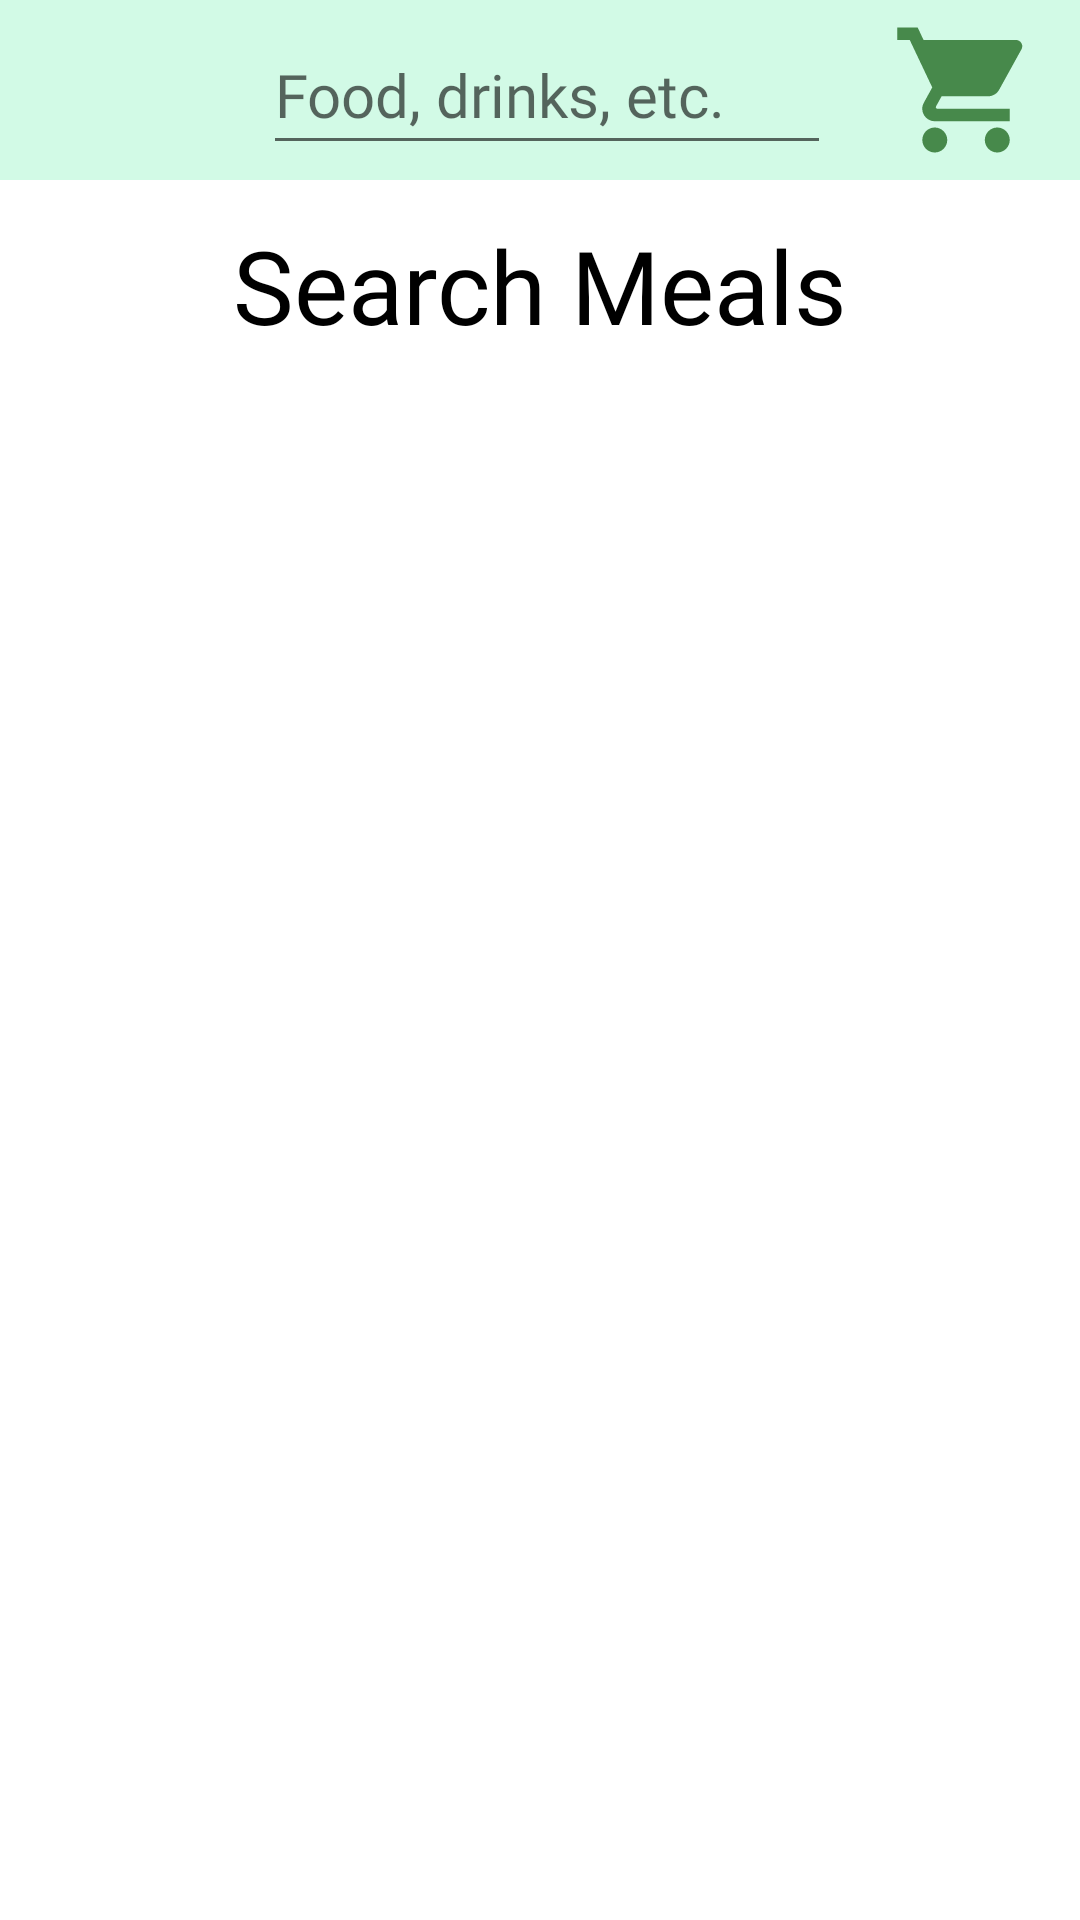

Point at icon controls on the screen. Image size 1080 × 1920, points as (x=x, y=y).
shopping cart: (x=960, y=90)
